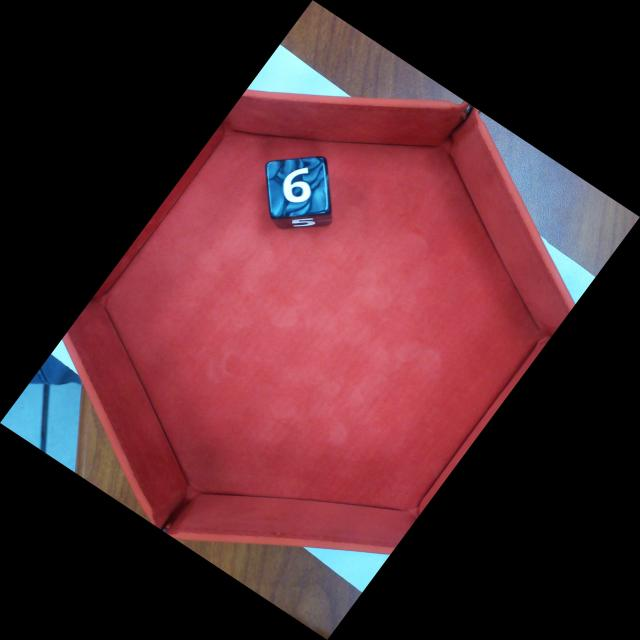dice: (271, 160, 327, 215)
